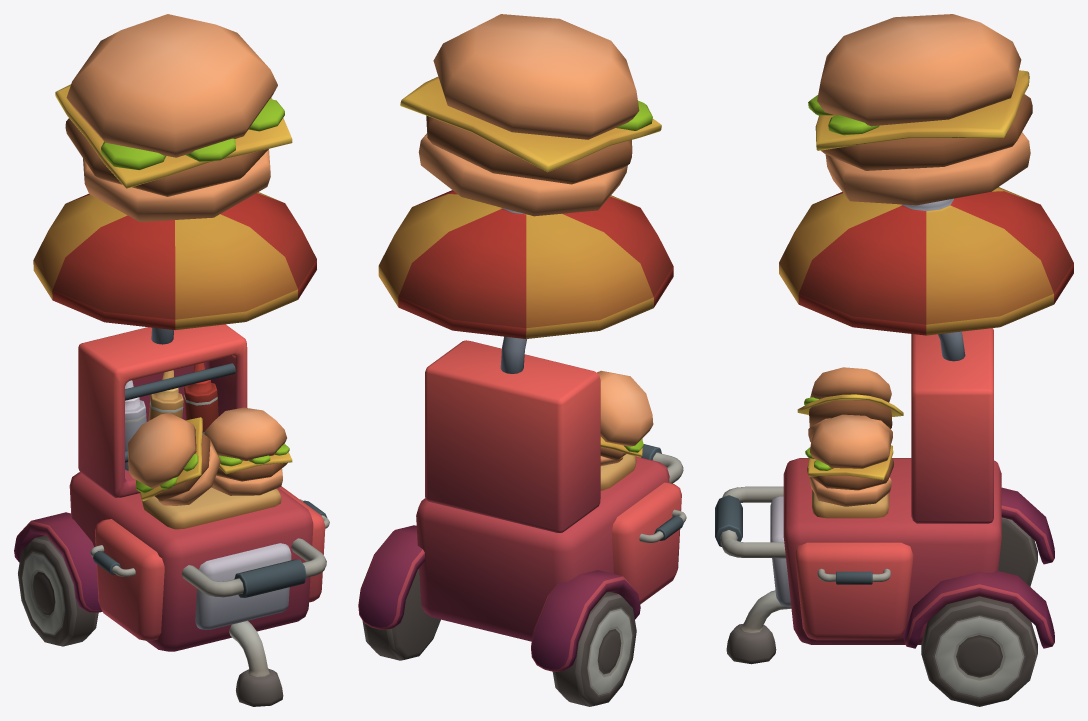
Rendered from mct_build_full_stand_burger.fbx.
The picture shows the model from 3 angles, left to right: view 1: azimuth 30°, elevation 25°; view 2: azimuth 150°, elevation 25°; view 3: azimuth 270°, elevation 25°; orthographic projection. The views are drawn at different scales.
Parts seen in each view (by area): view 1: stand_burger; view 2: stand_burger; view 3: stand_burger.
Part boxes in pixels (<box>): stand_burger: <box>14,14,329,706</box>; stand_burger: <box>358,14,686,706</box>; stand_burger: <box>715,14,1073,706</box>.
Bounding box in the file's own units: 158 × 368 × 192.
